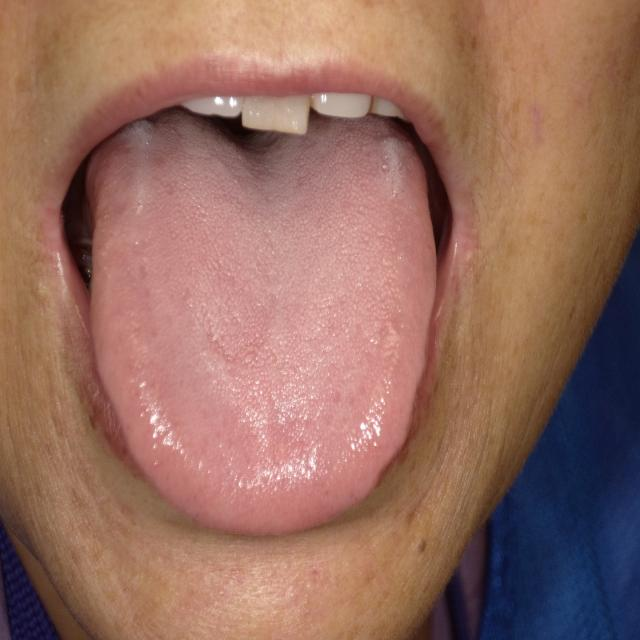baitaishe: (86, 108, 436, 537)
shenquao: (173, 108, 339, 176)
